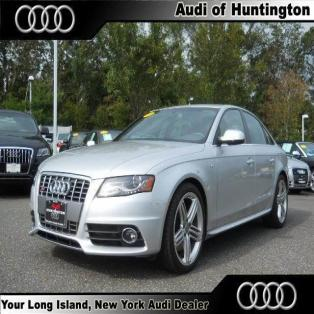Auto: (27, 102, 289, 275)
